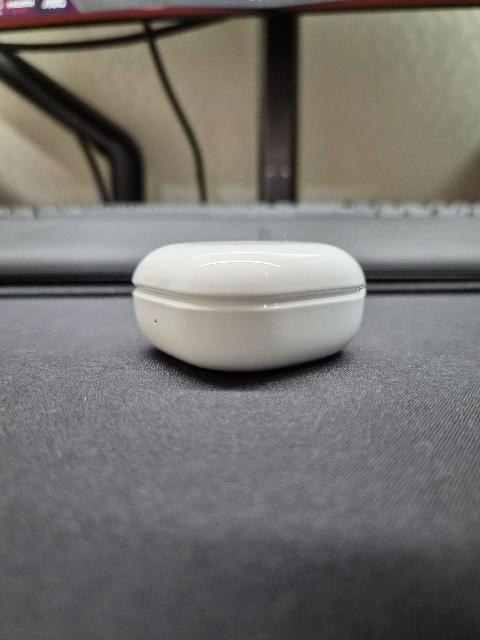earphone_case: (132, 241, 367, 372)
